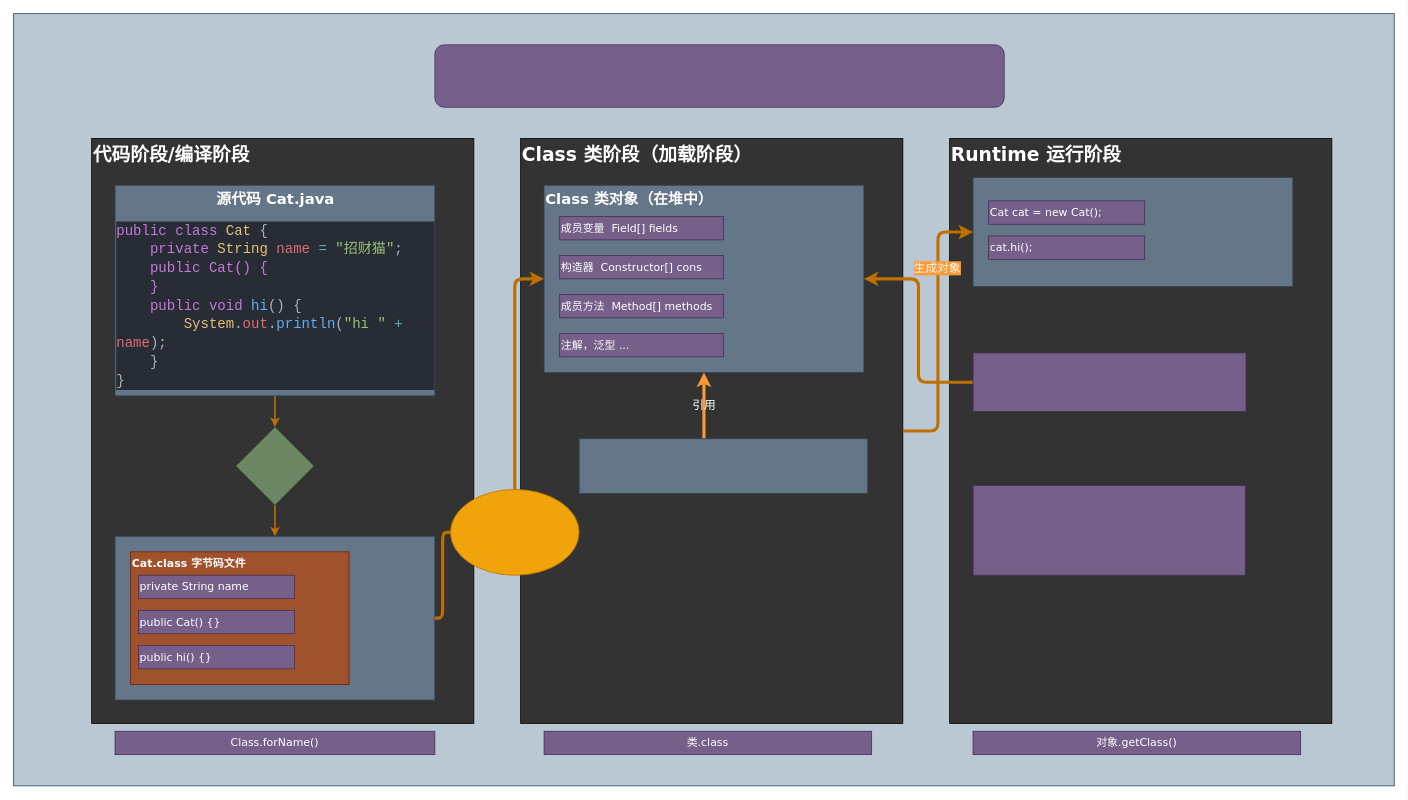
Image size: 1408x800. Some labels were removed from this diagram. Each missing label, with the centre of its shape:
Cat 对象（在堆中） 该对象知道他是属于哪个 Class 对象: point (1109, 381)
Java 程序在计算机的三个阶段: point (719, 75)
Javac 编译: point (274, 465)
得到 Class 对象后 1. 创建对象 2. 调用对象方法 3. 操作属性等: point (1108, 530)
方法区 Cat 类的字节码二进制数据/元数据: point (723, 465)
类加载器 ClassLoader loadClass() 方法: point (514, 532)
